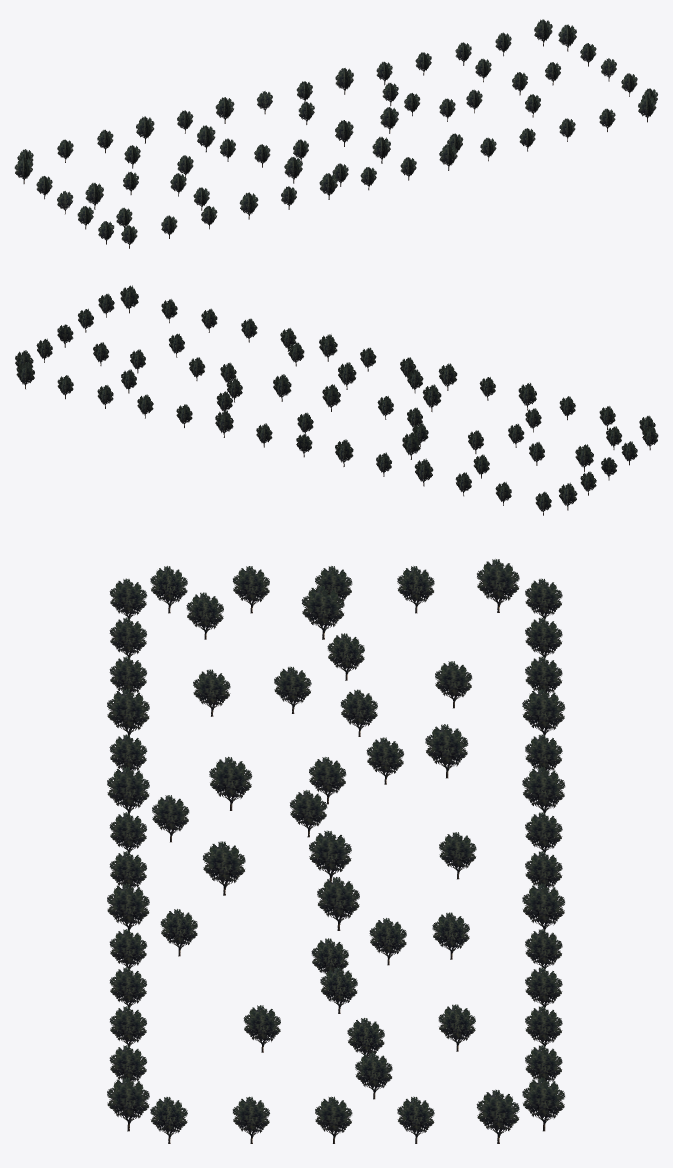
Rendered from planeTree03.FBX.
3 renders of one model, top to bottom at view 1: azimuth 30°, elevation 25°; view 2: azimuth 150°, elevation 25°; view 3: azimuth 270°, elevation 25°, orthographic. The views are drawn at different scales.
Visible parts, largest first — view 1: planeTree03; view 2: planeTree03; view 3: planeTree03.
Boxes of the visible parts, box(x1,y1,x2,y2) form: planeTree03: box(14, 19, 657, 248); planeTree03: box(15, 285, 658, 515); planeTree03: box(107, 559, 565, 1143).
Bounding box in the file's own units: 6819 × 320 × 2419.
Materials: 1 (1 with a texture image).
